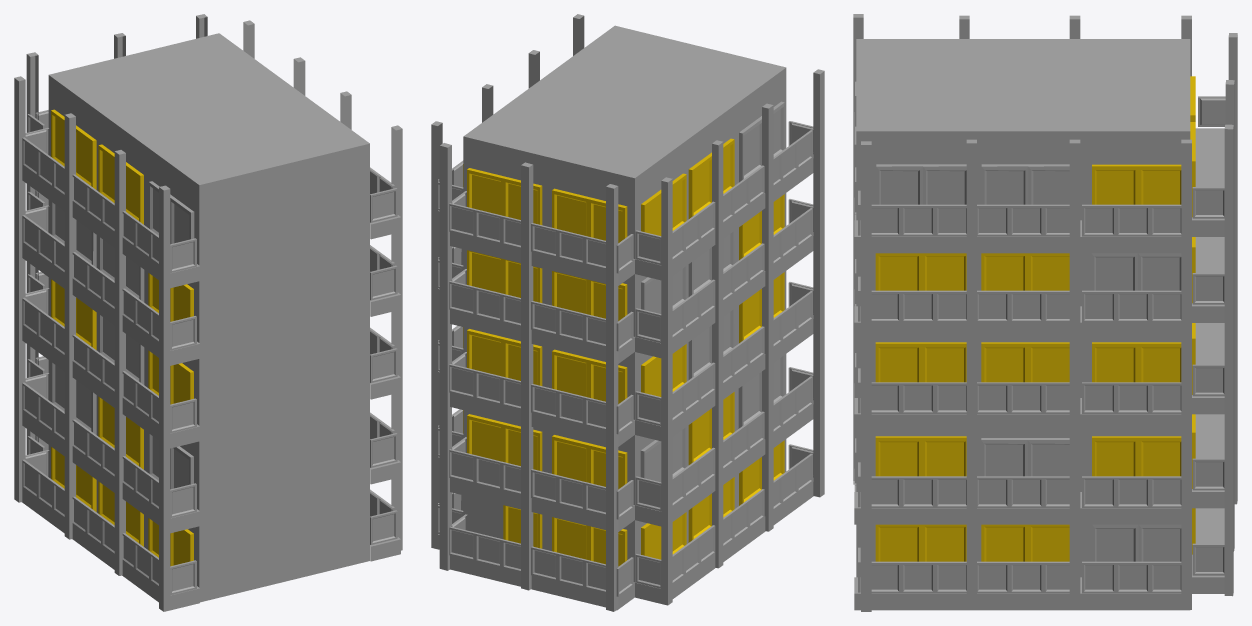
File: Appartment_roof_oneSide.fbx
The picture shows the model from 3 angles, left to right: view 1: azimuth 30°, elevation 25°; view 2: azimuth 150°, elevation 25°; view 3: azimuth 270°, elevation 25°; orthographic projection. The views are drawn at different scales.
Parts seen in each view (by area): view 1: No_ROOF_ONESIDE; view 2: No_ROOF_ONESIDE; view 3: No_ROOF_ONESIDE.
Part boxes in pixels (box(x1,y1,x2,y2)): No_ROOF_ONESIDE: box(14, 14, 402, 611); No_ROOF_ONESIDE: box(431, 14, 824, 611); No_ROOF_ONESIDE: box(853, 14, 1237, 611).
Bounding box in the file's own units: 576 × 959 × 713.
